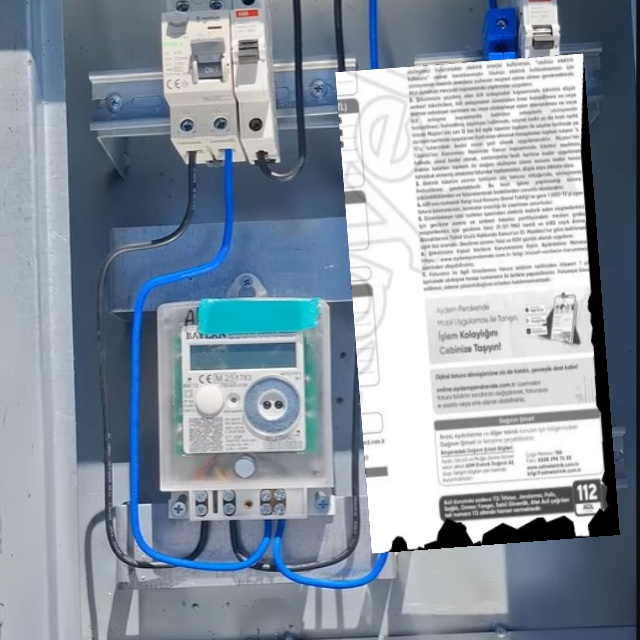electricity-bill: (335, 53, 620, 554)
